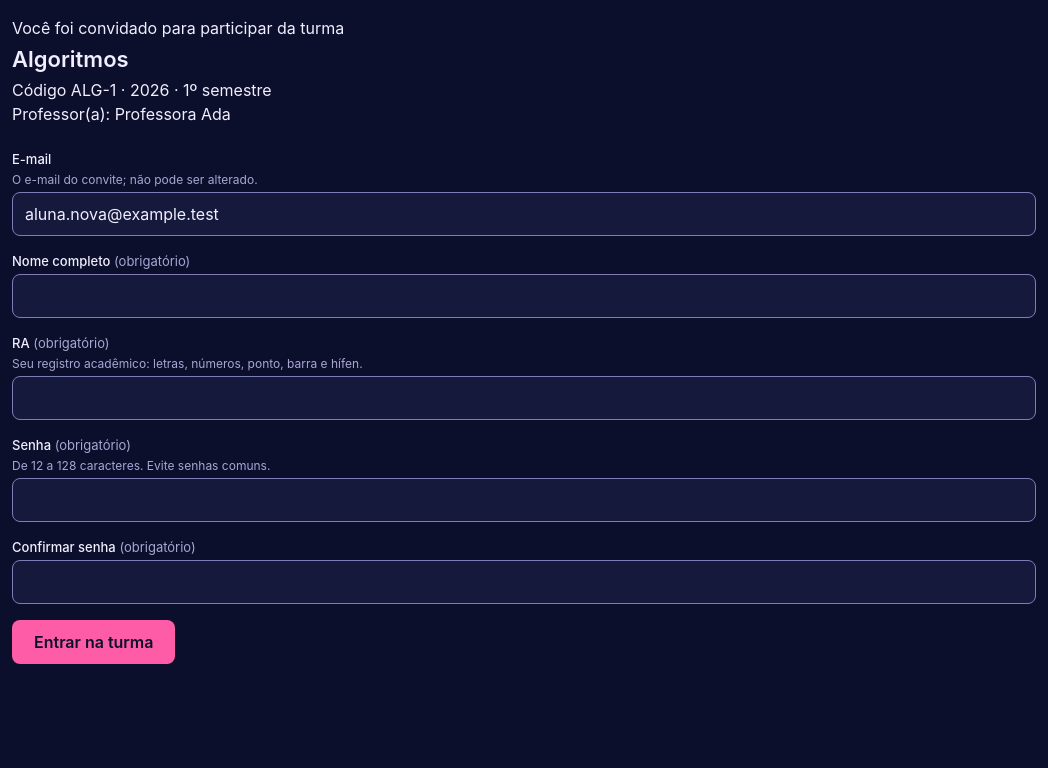
Test case: 003/US3-1 003/US3-2 003/US3-4 003/US3-5 ClassInvitationPage — aluno novo (FR-030–FR-036) › aceite recusado com TOKEN_INVALID troca o formulário pelo aviso
Check: the heading "Algoritmos" is shown, box [12,46,129,72]
Type "Aluna Nova" into the field labelled "Nome completo (obrigatório)".
click(524, 296); type("Aluna Nova")  # box [12,274,1036,318]
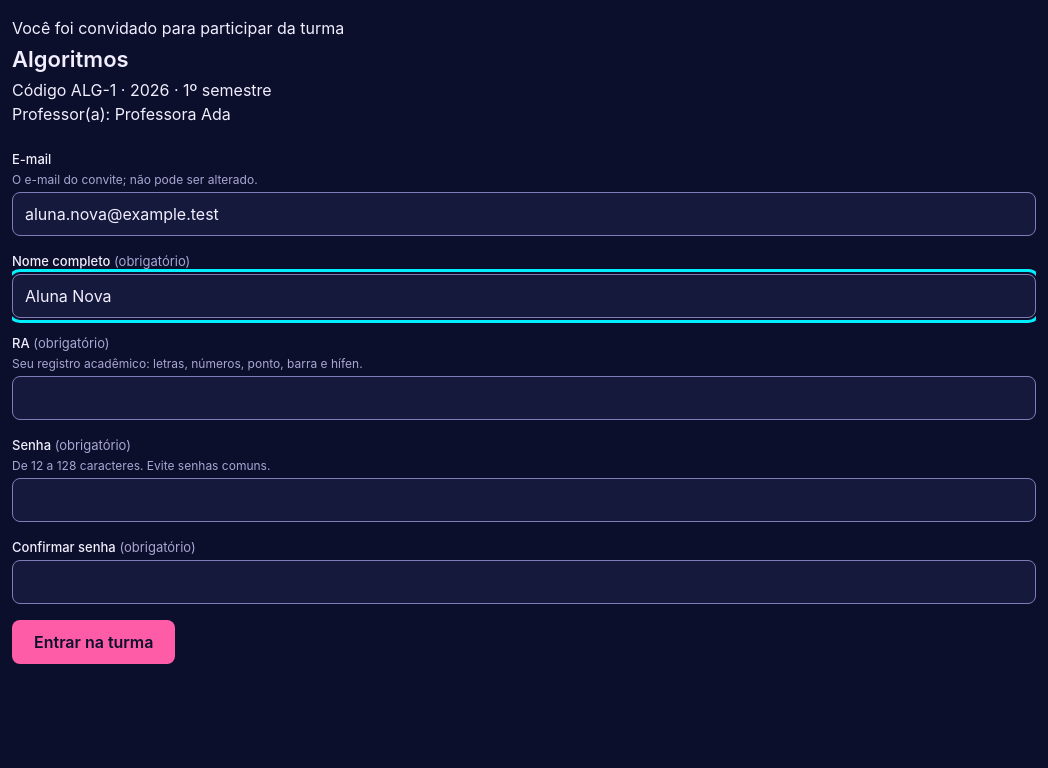
Type "RA-2026.001" into the field labelled "RA (obrigatório)".
click(524, 398); type("RA-2026.001")  # box [12,376,1036,420]
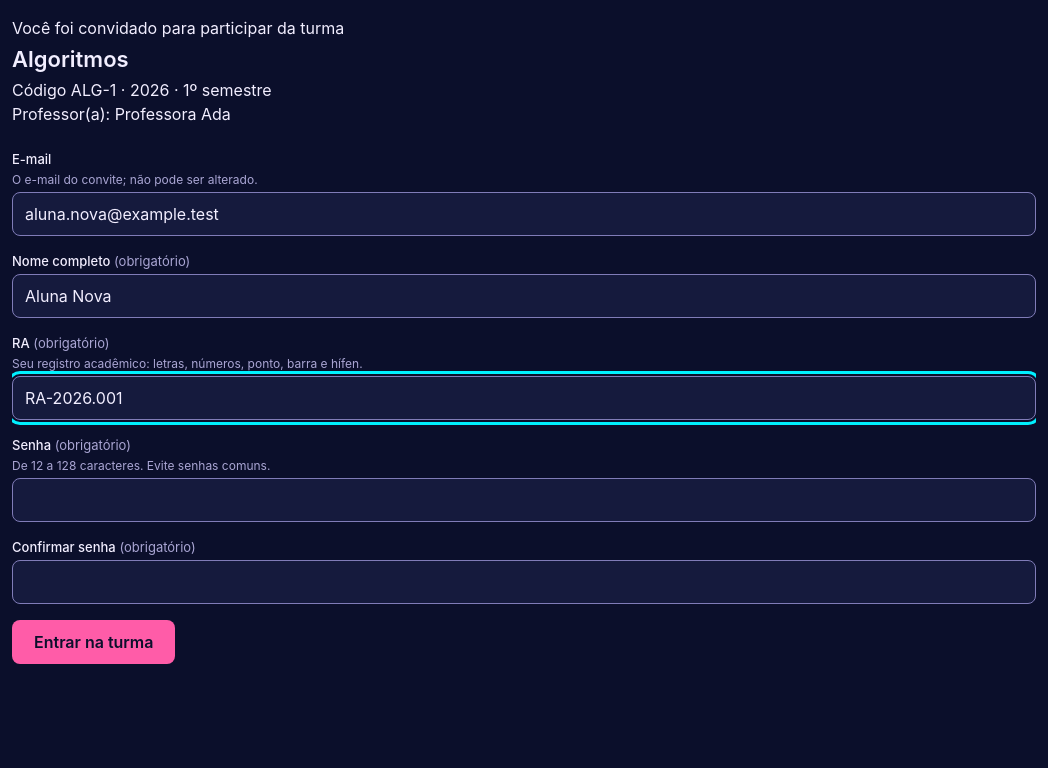
Type "girassol-azul-de-outono" into the password field labelled "Senha (obrigatório)".
click(524, 500); type("girassol-azul-de-outono")  # box [12,478,1036,522]
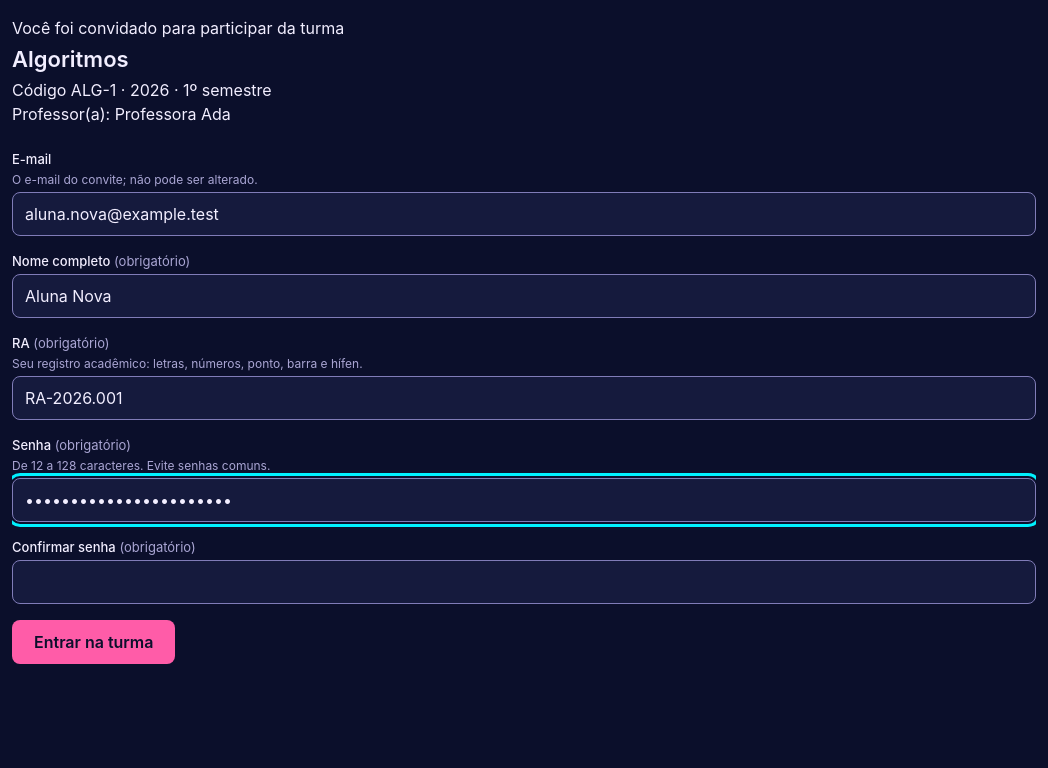
Type "girassol-azul-de-outono" into the password field labelled "Confirmar senha (obrigatório)".
click(524, 582); type("girassol-azul-de-outono")  # box [12,560,1036,604]
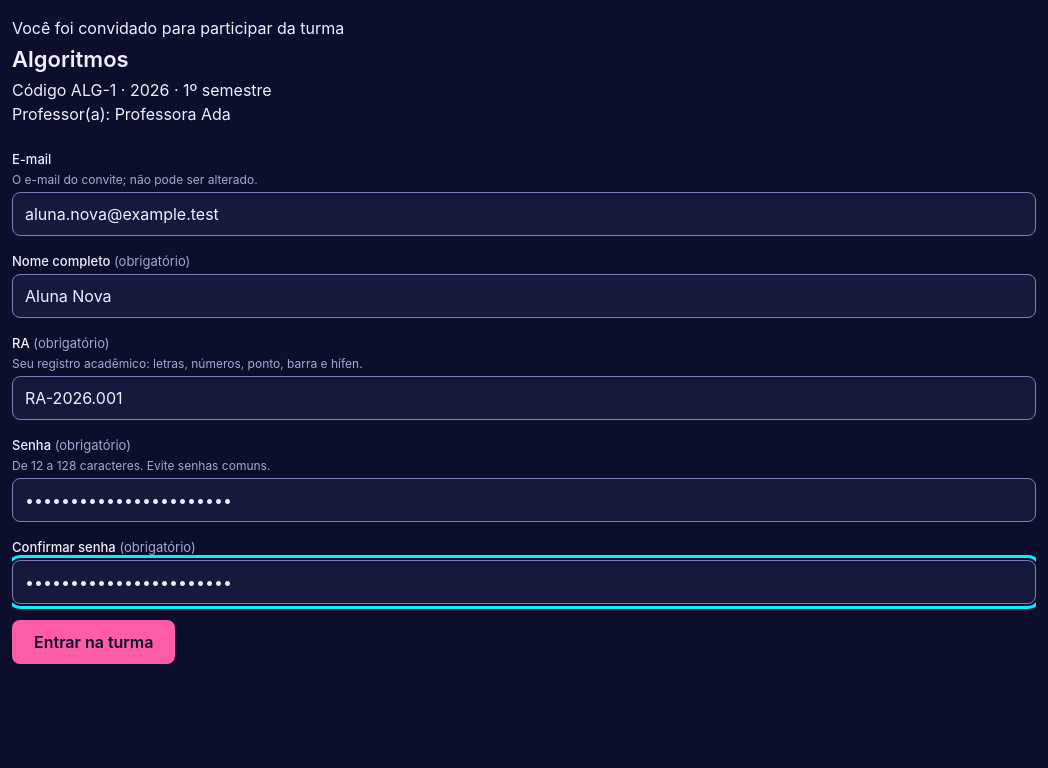
Click the button "Entrar na turma".
click(94, 642)  # box [12,620,176,664]
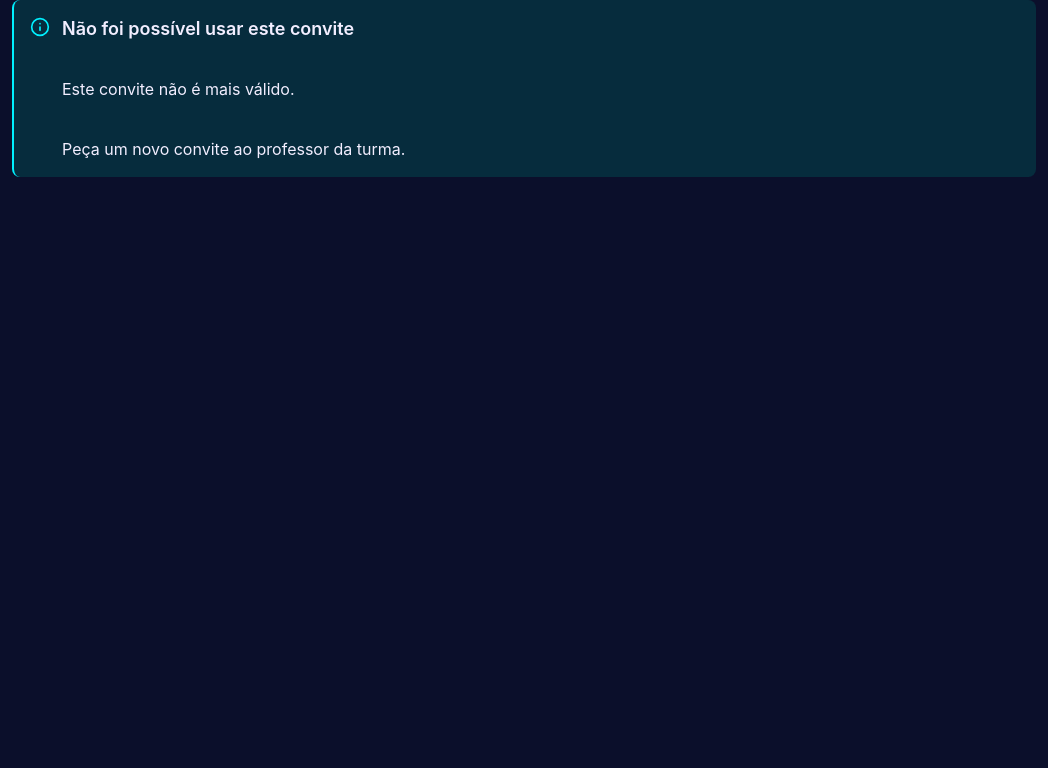
Check: the text "Este convite não é mais válido." is shown, box [62,77,294,101]
Check: the button "Entrar na turma" is gone
